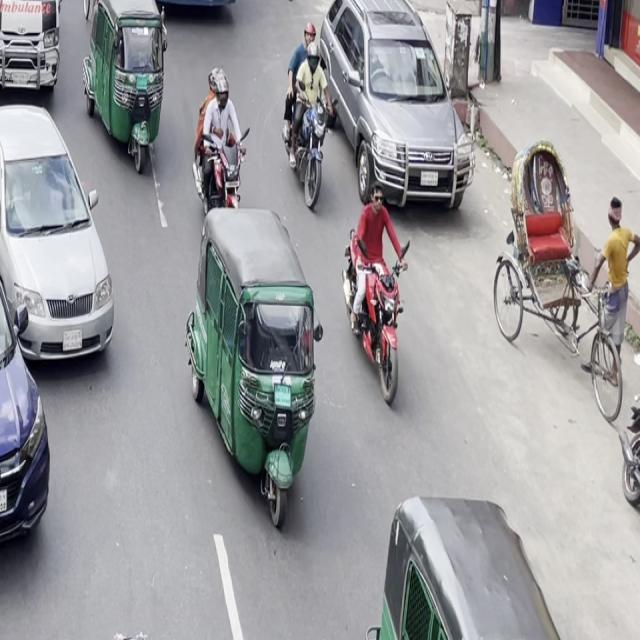bus: (115, 0, 247, 25)
car: (312, 0, 480, 227), (0, 82, 125, 384), (0, 152, 67, 582), (0, 0, 71, 107)
motorbike: (335, 177, 421, 410), (184, 61, 254, 233), (278, 31, 336, 215)
rickshaw: (173, 190, 343, 528), (79, 0, 177, 184)
